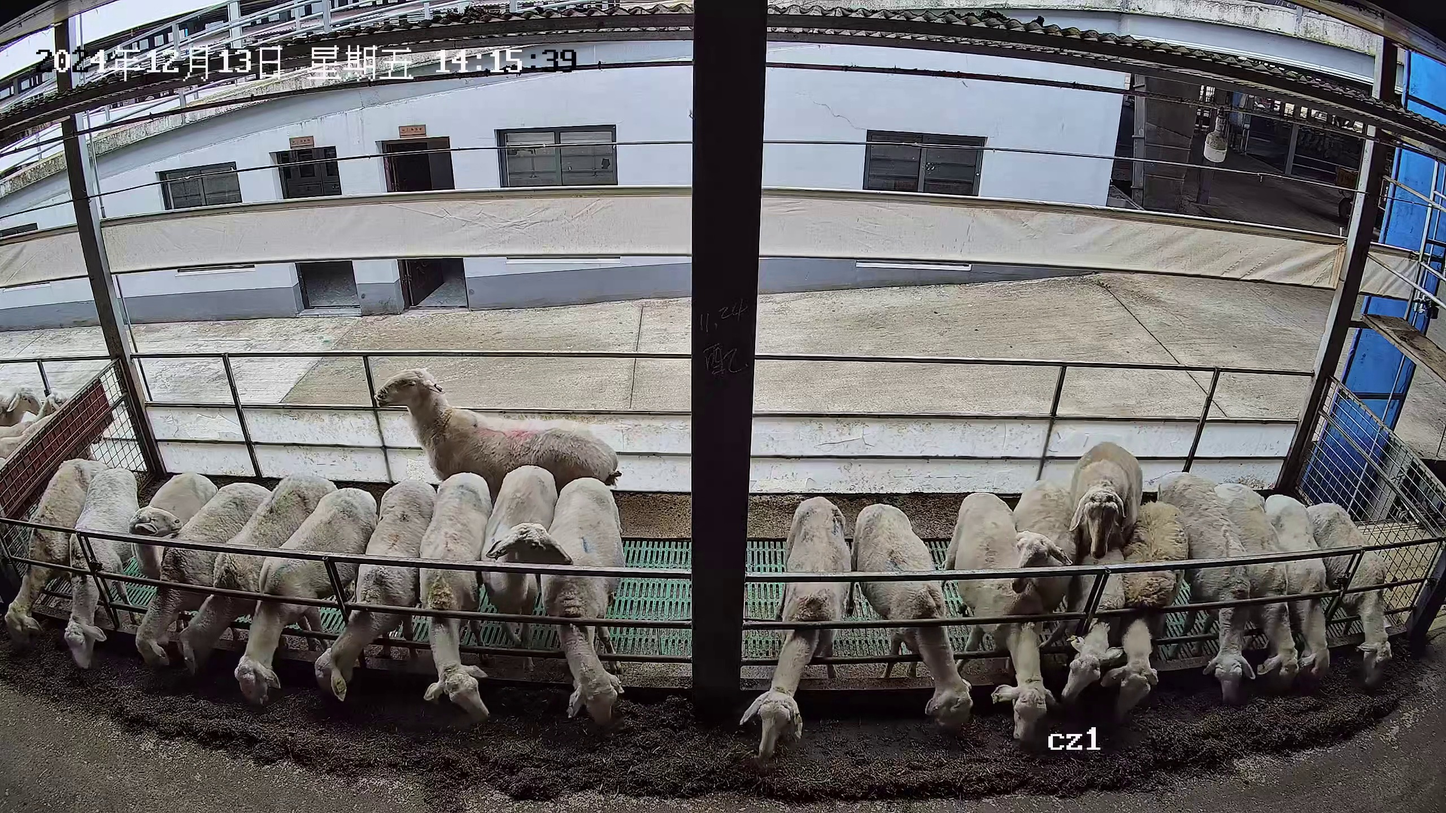Smounting: (1057, 440, 1148, 701)
mounted: (1060, 542, 1129, 698)
